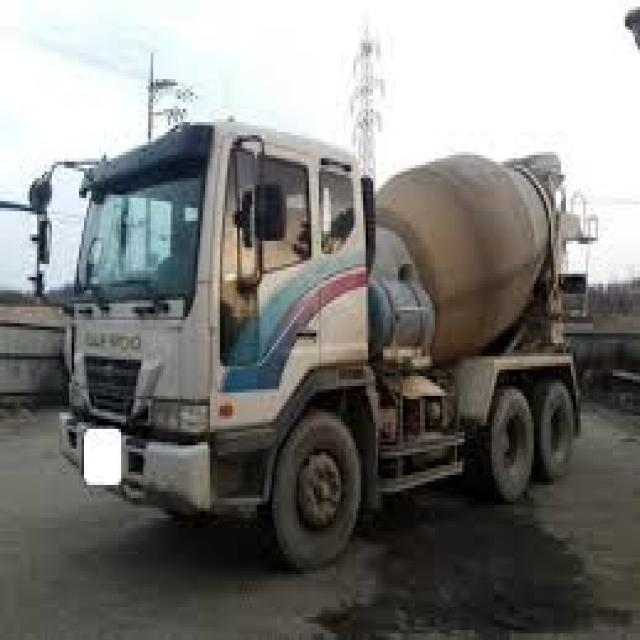Mixer Truck: (24, 112, 599, 572)
